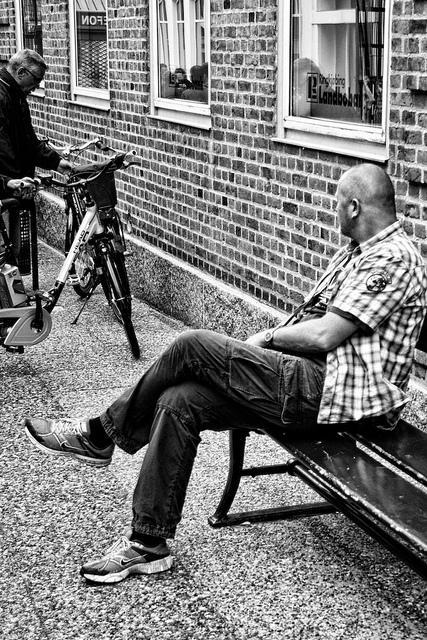bicycle: (2, 157, 140, 359), (55, 140, 132, 302)
